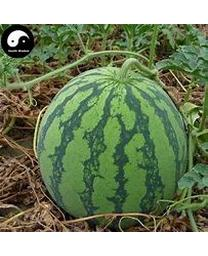watermelon: (34, 65, 187, 220)
